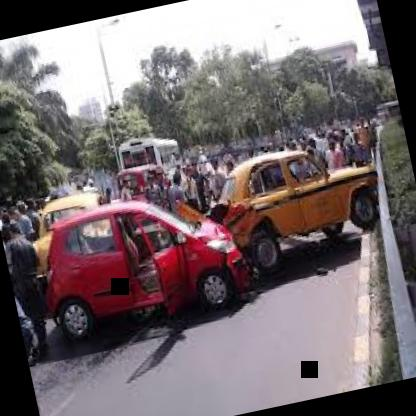accident: (12, 61, 416, 382)
